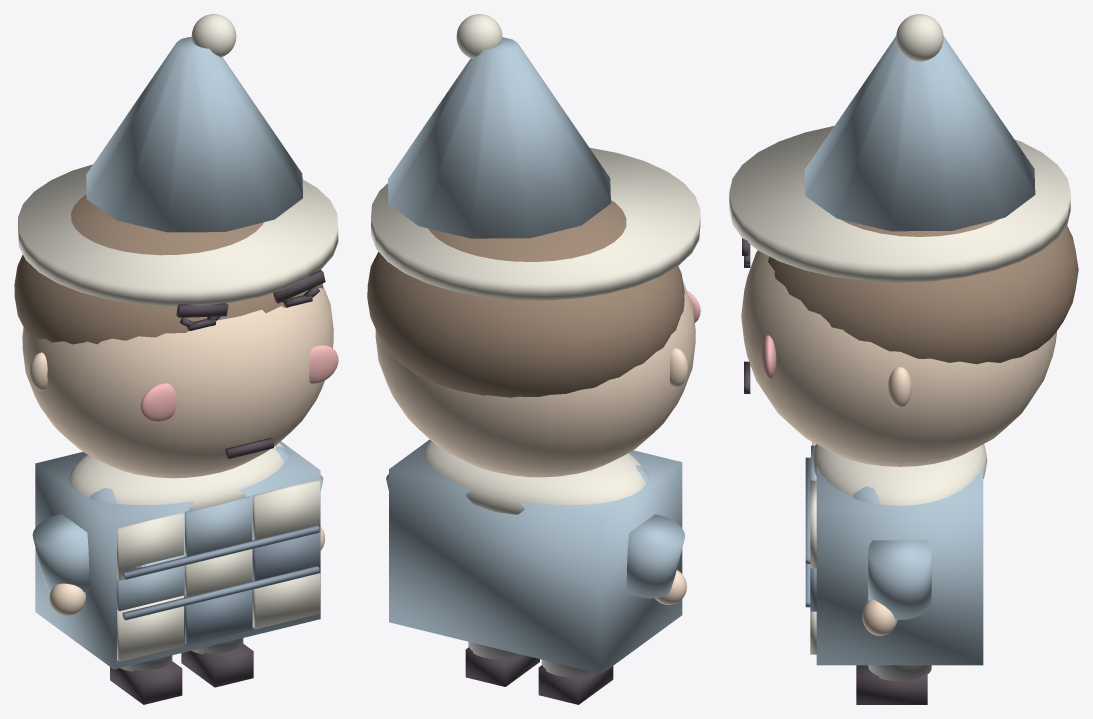
Rendered from quilt.glb.
3 views of the same model, side by side, from view 1: azimuth 30°, elevation 25°; view 2: azimuth 150°, elevation 25°; view 3: azimuth 270°, elevation 25° (orthographic). The views are drawn at different scales.
Parts seen in each view (by area): view 1: Head, Nightcap, NightcapBrim, QuiltBody, HairCap, QuiltCollar, QuiltArm_L, Patch_2, Patch_1, Patch_0, Patch_6, Patch_8 (+16 smaller); view 2: QuiltBody, HairCap, Nightcap, Head, NightcapBrim, QuiltCollar, QuiltArm_L, Shoe_L, Shoe_R, NightcapPom, Ear_L, Hand_L; view 3: Head, Nightcap, QuiltBody, NightcapBrim, HairCap, QuiltCollar, QuiltArm_R, Shoe_R, NightcapPom, Hand_R, Leg_R, Ear_R (+3 smaller).
Part boxes in pixels (left/top/right/bottom): Head: left=22, top=284, right=333, bottom=478; Nightcap: left=86, top=37, right=302, bottom=232; NightcapBrim: left=18, top=164, right=338, bottom=306; QuiltBody: left=35, top=441, right=320, bottom=669; HairCap: left=14, top=194, right=322, bottom=344; QuiltCollar: left=69, top=442, right=285, bottom=510; QuiltArm_L: left=32, top=514, right=89, bottom=592; Patch_2: left=252, top=479, right=320, bottom=547; Patch_1: left=185, top=496, right=252, bottom=556; Patch_0: left=117, top=512, right=183, bottom=580; Patch_6: left=117, top=595, right=183, bottom=661; Patch_8: left=252, top=573, right=320, bottom=629; QuiltBody: left=389, top=439, right=682, bottom=673; HairCap: left=367, top=200, right=684, bottom=397; Nightcap: left=388, top=37, right=610, bottom=238; Head: left=375, top=281, right=695, bottom=477; NightcapBrim: left=371, top=147, right=700, bottom=300; QuiltCollar: left=423, top=441, right=646, bottom=514; QuiltArm_L: left=626, top=514, right=684, bottom=598; Shoe_L: left=538, top=665, right=613, bottom=704; Shoe_R: left=465, top=647, right=539, bottom=686; NightcapPom: left=456, top=14, right=502, bottom=58; Ear_L: left=669, top=348, right=688, bottom=387; Hand_L: left=655, top=570, right=686, bottom=604; Head: left=741, top=250, right=1056, bottom=466; Nightcap: left=804, top=36, right=1035, bottom=231; QuiltBody: left=816, top=465, right=983, bottom=665; NightcapBrim: left=729, top=126, right=1070, bottom=282; HairCap: left=768, top=219, right=1078, bottom=364; QuiltCollar: left=812, top=444, right=987, bottom=505; QuiltArm_R: left=868, top=540, right=931, bottom=619; Shoe_R: left=856, top=665, right=927, bottom=704; NightcapPom: left=896, top=14, right=943, bottom=61; Hand_R: left=862, top=599, right=897, bottom=635; Leg_R: left=868, top=665, right=931, bottom=681; Ear_R: left=888, top=367, right=911, bottom=407.
Size of the model in its own units: 0.91 by 1.9 by 0.88.
